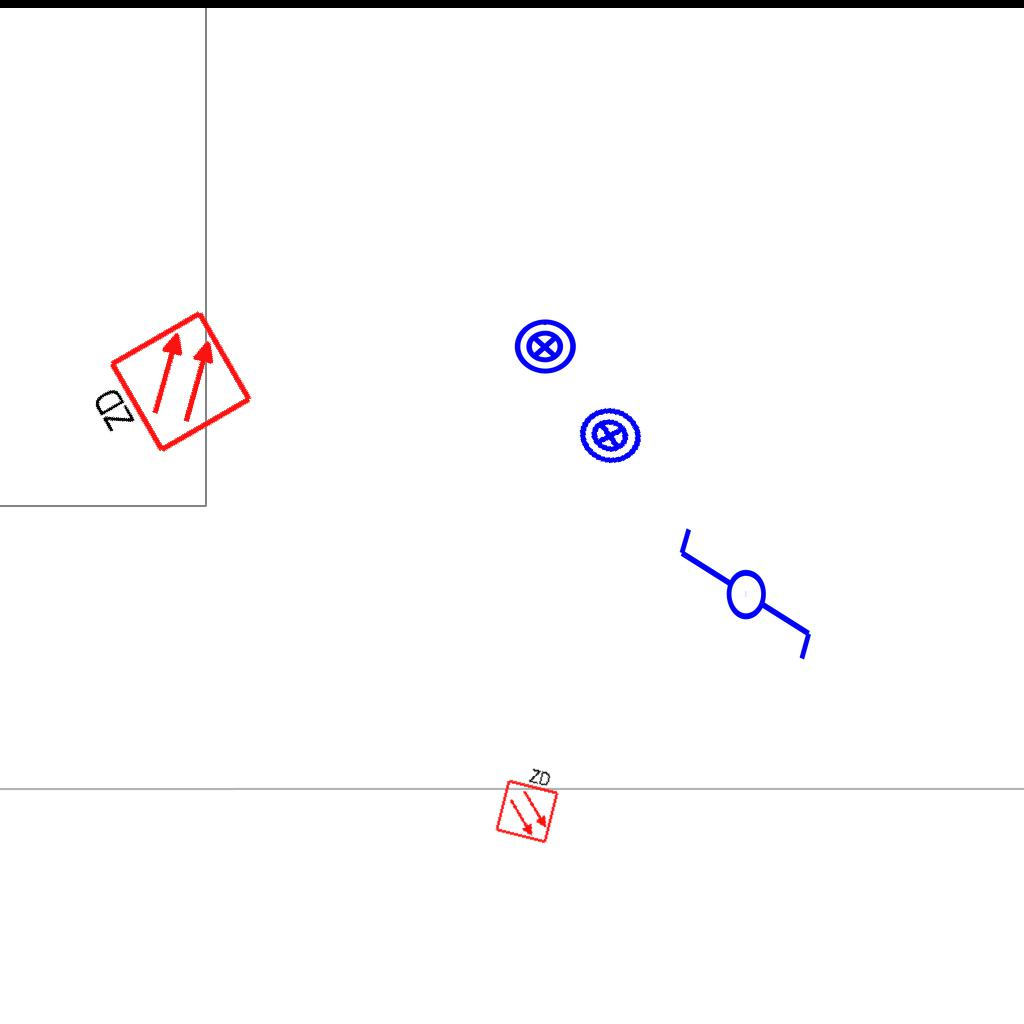Taster_beleuchtet: (570, 396, 650, 476), (512, 314, 578, 380)
Wechselschalter: (672, 524, 816, 681)
ZD_Melder_in_Zwischendecke_mit_Revisionsoeffnung_mind_40_x_40_cm: (71, 305, 259, 480), (491, 759, 566, 845)
